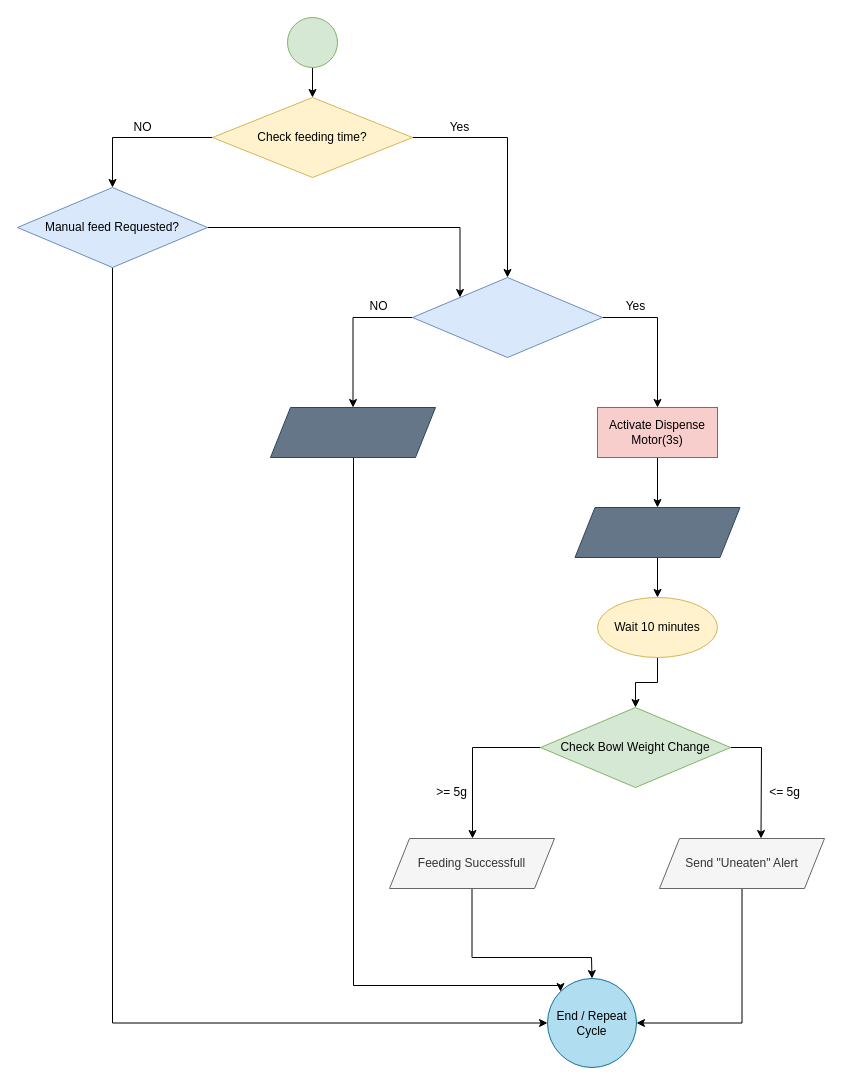
Image size: 842x1085. Some labels were removed from this diagram. The centre of each missing label's shape, as x and y in pixels:
"Check food level?" goes at point 507,317.
"Record Bowl Weight" goes at point 657,532.
"Start" goes at point 312,42.
"Trigger Refill Alert" goes at point 353,432.
